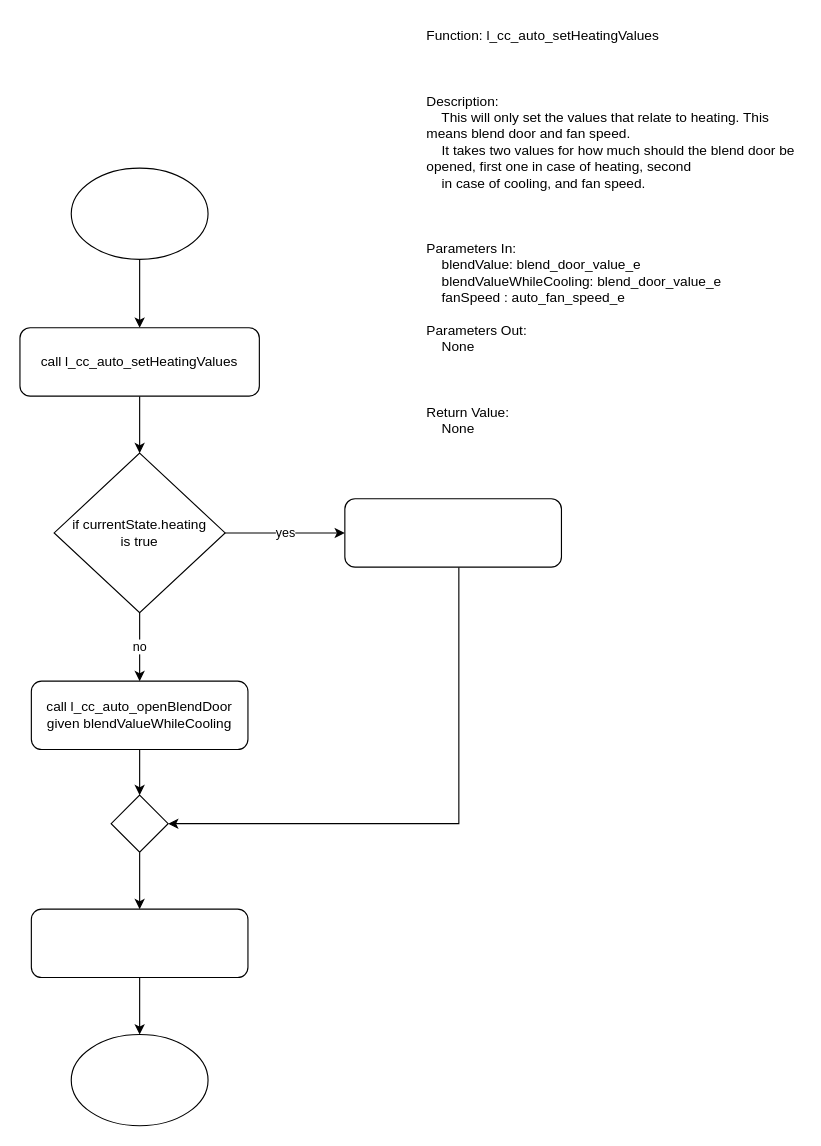
This 821x1146 diagram has some shape labels left out. Here are the shapes that lost their labels. From the top down, the centre of each, then its label:
At point 452,532: "call l_cc_auto_openBlendDoor given blendValue".
At point 139,943: "call g_cc_ac_setFanSpeed given fanSpeed and SET_AUTO_ON".
